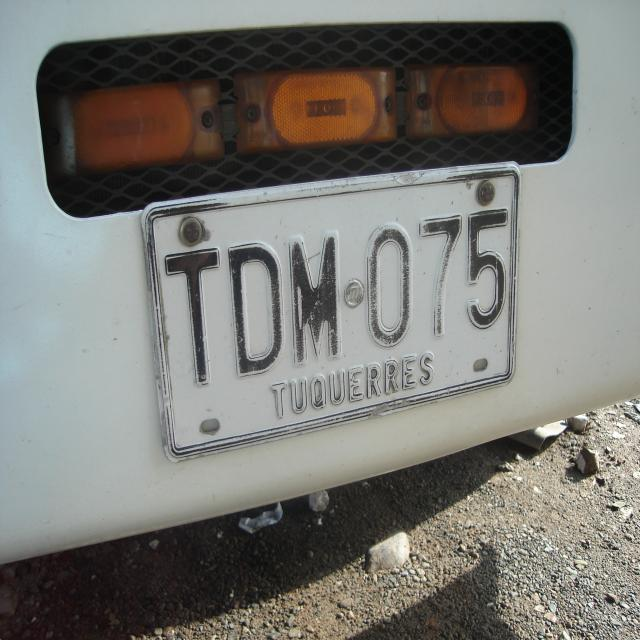placa: (137, 157, 524, 466)
